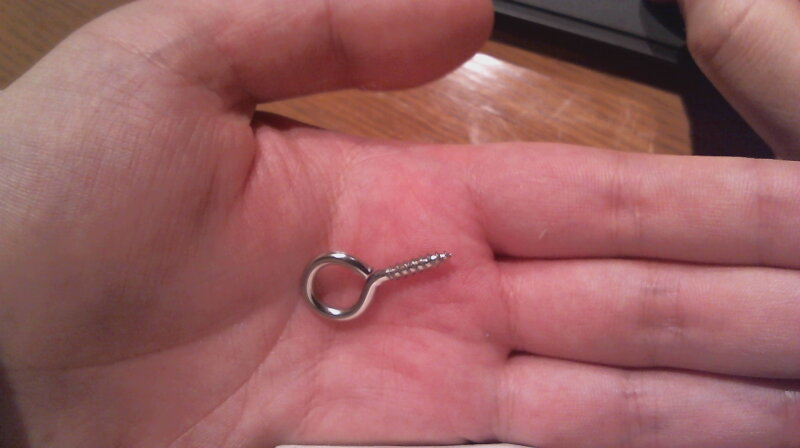O001: (298, 245, 460, 324)
